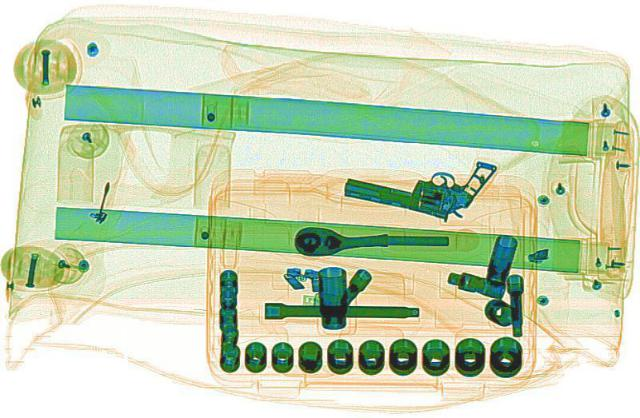Gun: (334, 136, 498, 224)
